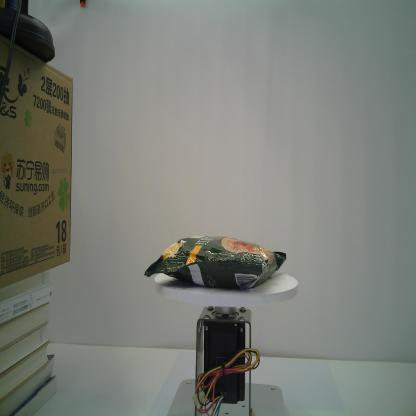Instant Noodles: (143, 230, 288, 292)
